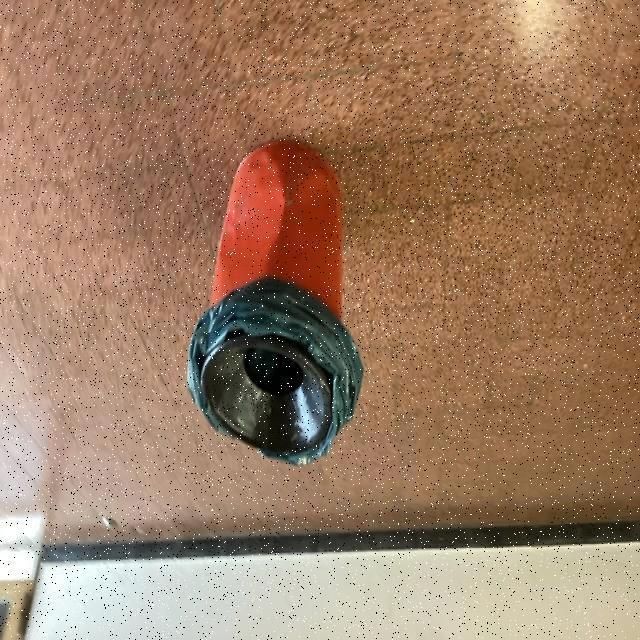garbage container: (173, 129, 383, 497)
